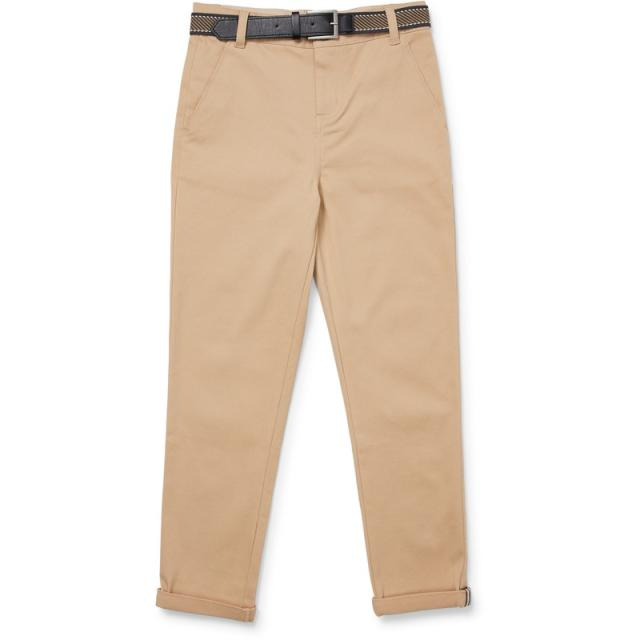long-pants: (155, 0, 472, 626)
